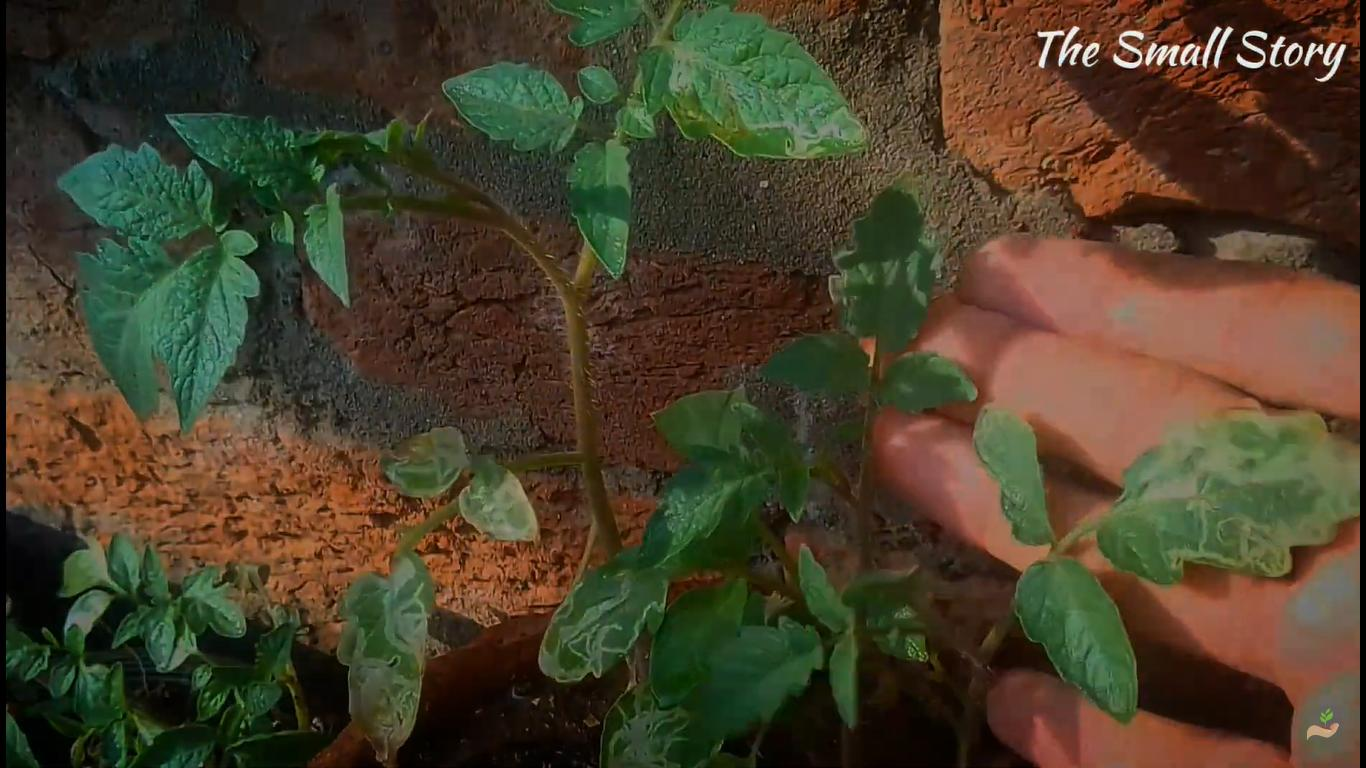Healthy: (1012, 552, 1142, 725), (152, 229, 260, 434), (70, 232, 176, 425), (686, 615, 828, 752), (633, 442, 763, 575), (54, 137, 215, 244), (159, 108, 329, 203), (438, 55, 585, 160), (563, 138, 635, 285), (757, 328, 872, 402), (879, 352, 980, 420), (303, 181, 349, 317)
Leaf_Miner: (1092, 401, 1362, 584), (635, 0, 872, 166), (334, 548, 440, 768), (823, 164, 944, 353), (536, 547, 675, 687), (454, 457, 549, 542), (375, 420, 469, 500)
